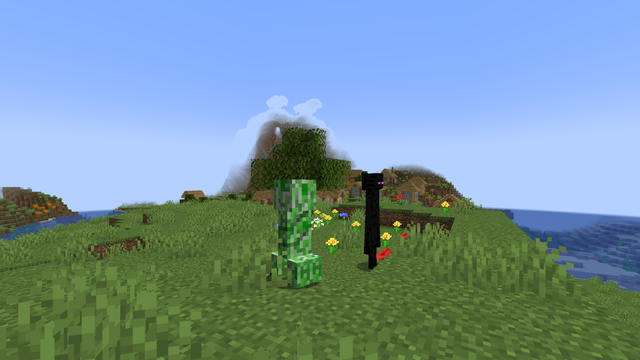creepers: (269, 174, 319, 286)
endermens: (359, 170, 384, 269)
